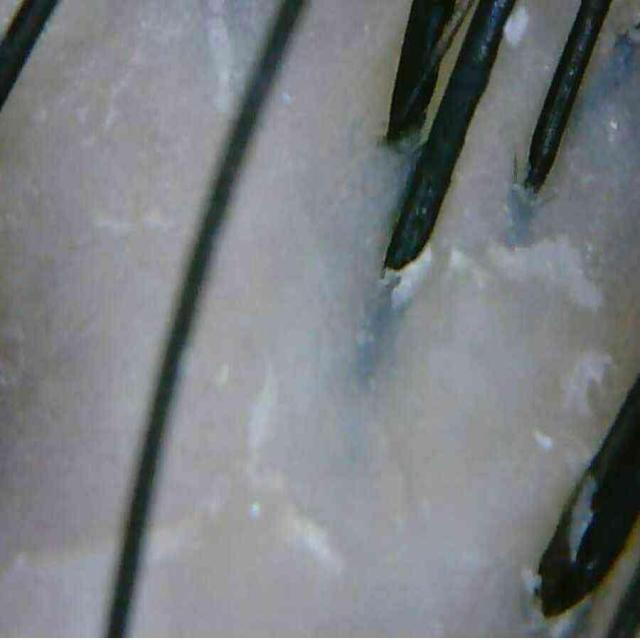d: (380, 248, 431, 311), (566, 472, 598, 562), (502, 2, 531, 48)
ds: (236, 354, 364, 597), (488, 235, 602, 311), (201, 0, 252, 112), (556, 350, 615, 427)
